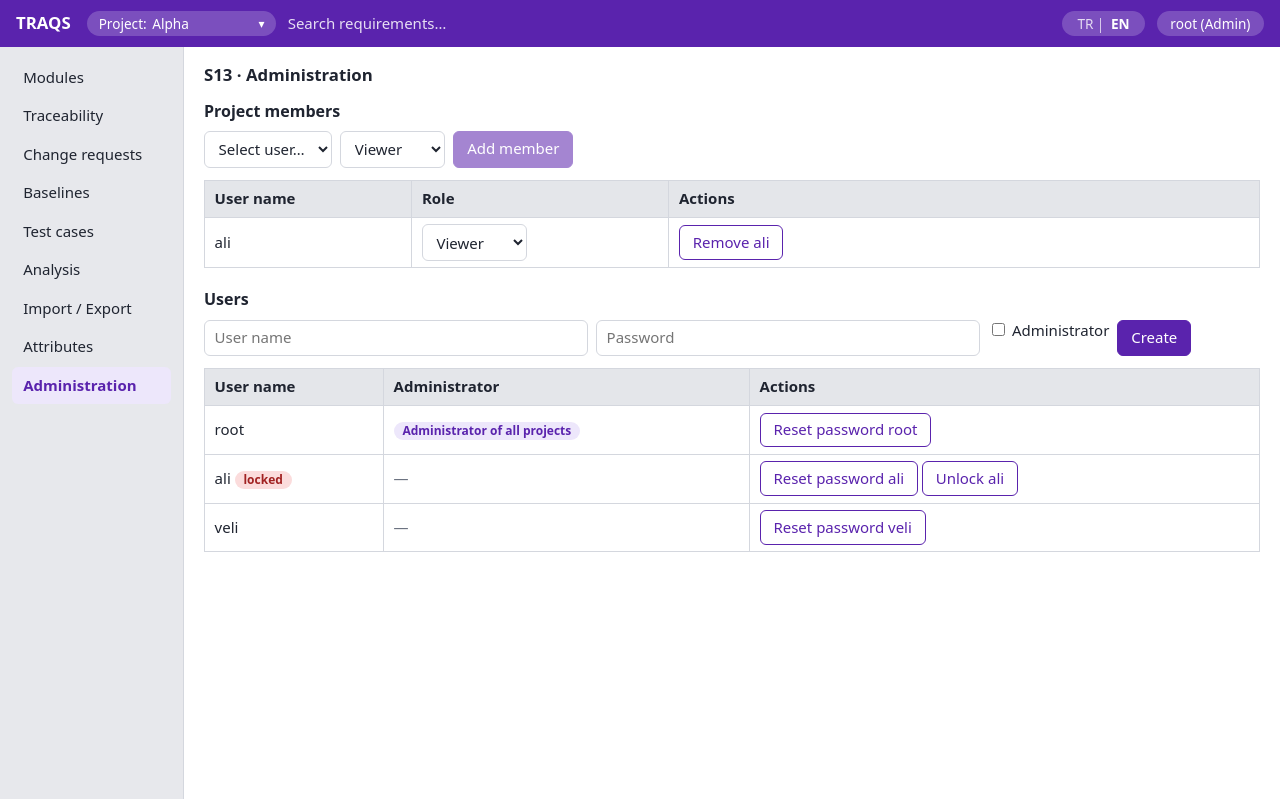
Test: Administration (S13) › global administrator sees members and users, and can reset a password
Expected: the heading "S13 · Administration" is shown, [204,63,373,86]
Expected: the cell "veli" is shown, [204,503,384,552]
Click the button "Reset password veli" at (843,527), box [760,510,926,545]
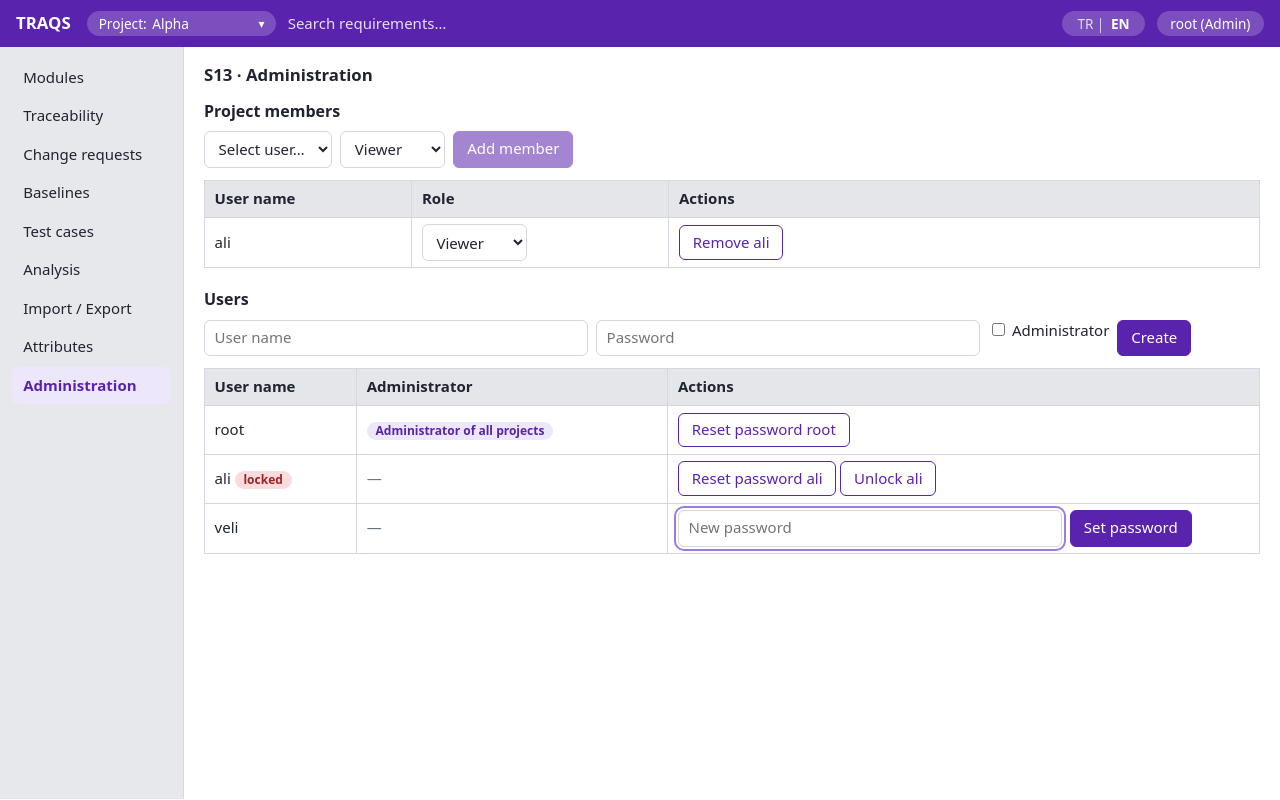
Type "brand-new-pass" into the password field labelled "New password" at (870,528), box [678,510,1062,546]
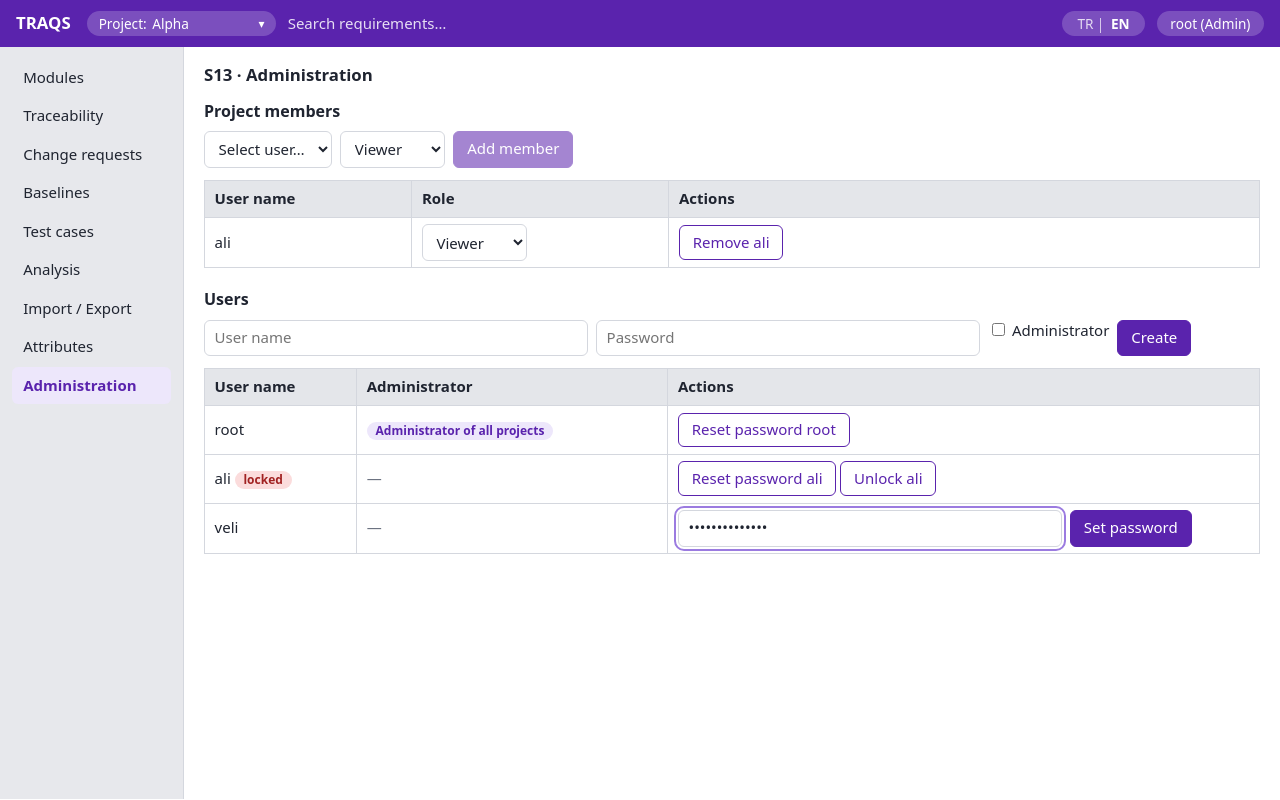
Click the button "Set password" at (1131,528), box [1070,510,1192,546]
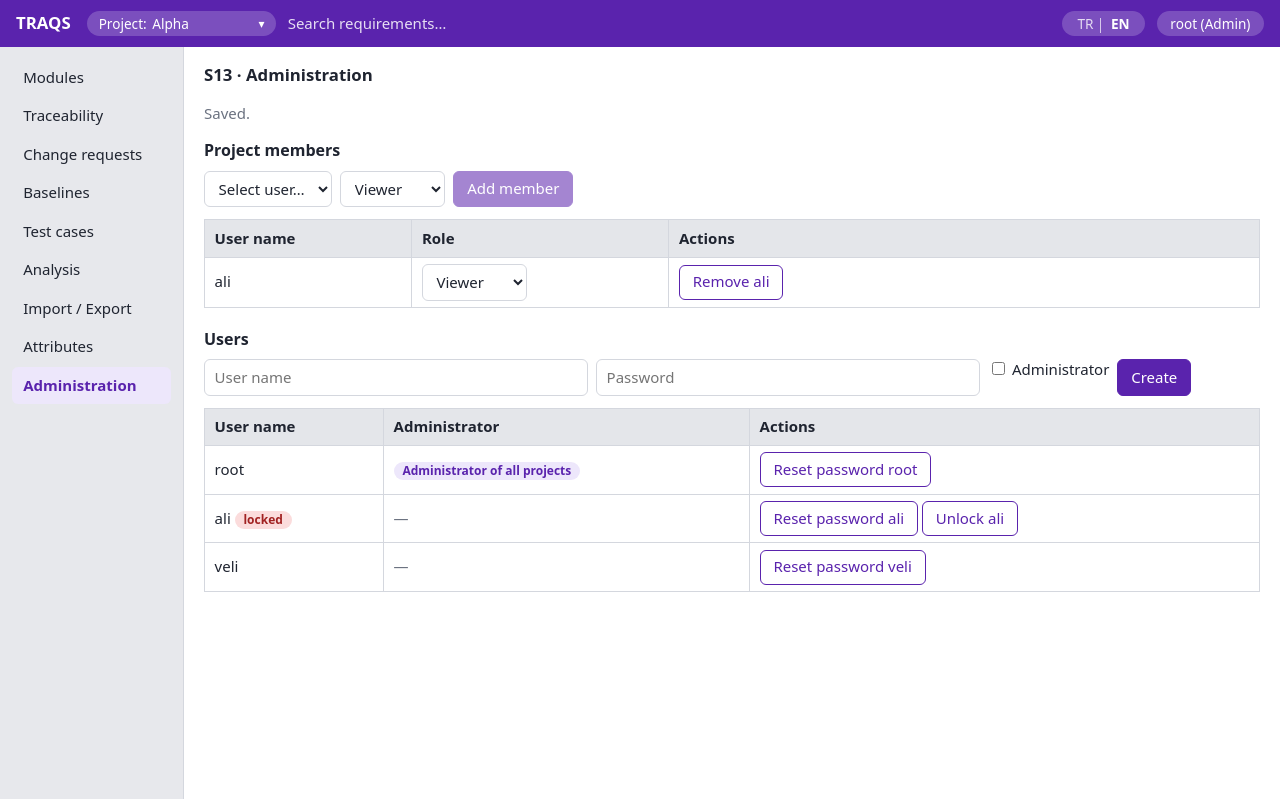
Expected: the message reads "Saved.", [204,103,250,123]
